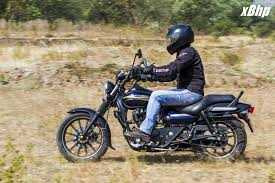helmet: (164, 22, 196, 56)
